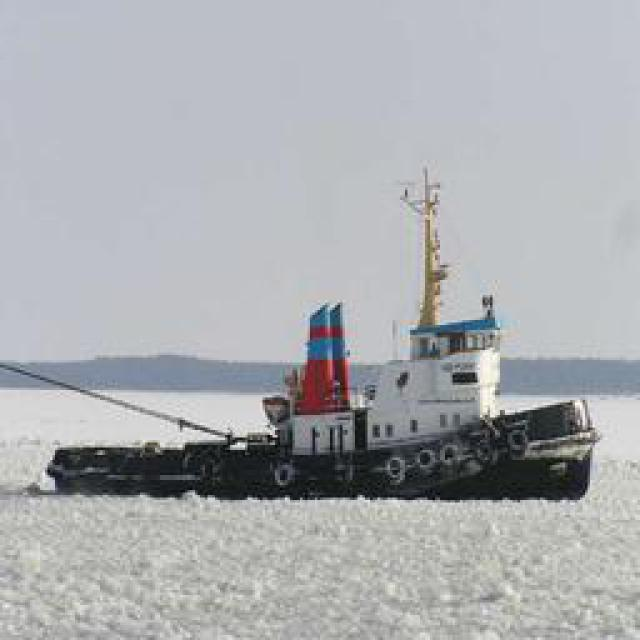Ship: (32, 280, 602, 503)
